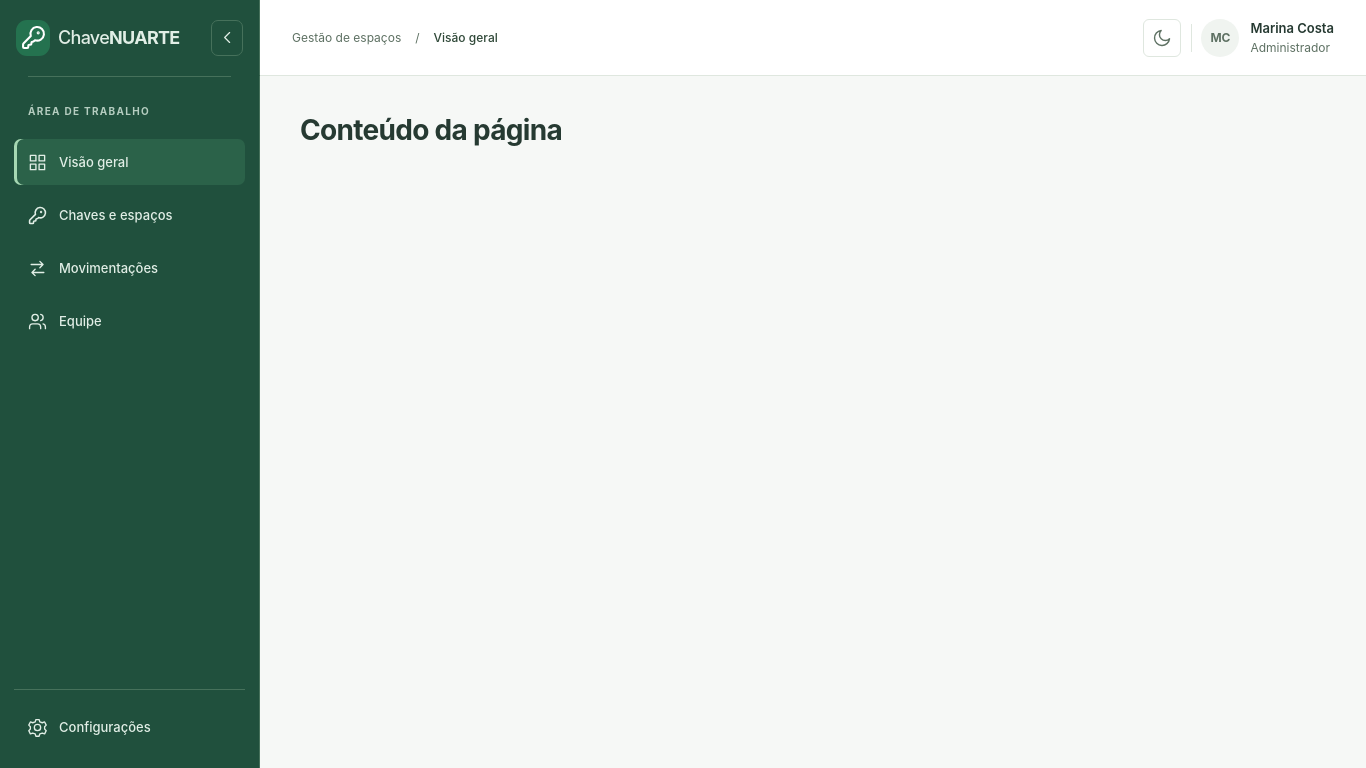
Scenario: identidade e navegação institucional › mantém o controle de expansão junto à marca nos dois estados
This screenshot has width=1366, height=768.
Click the button named "Recolher barra lateral": (227, 38) [211,20,243,56]
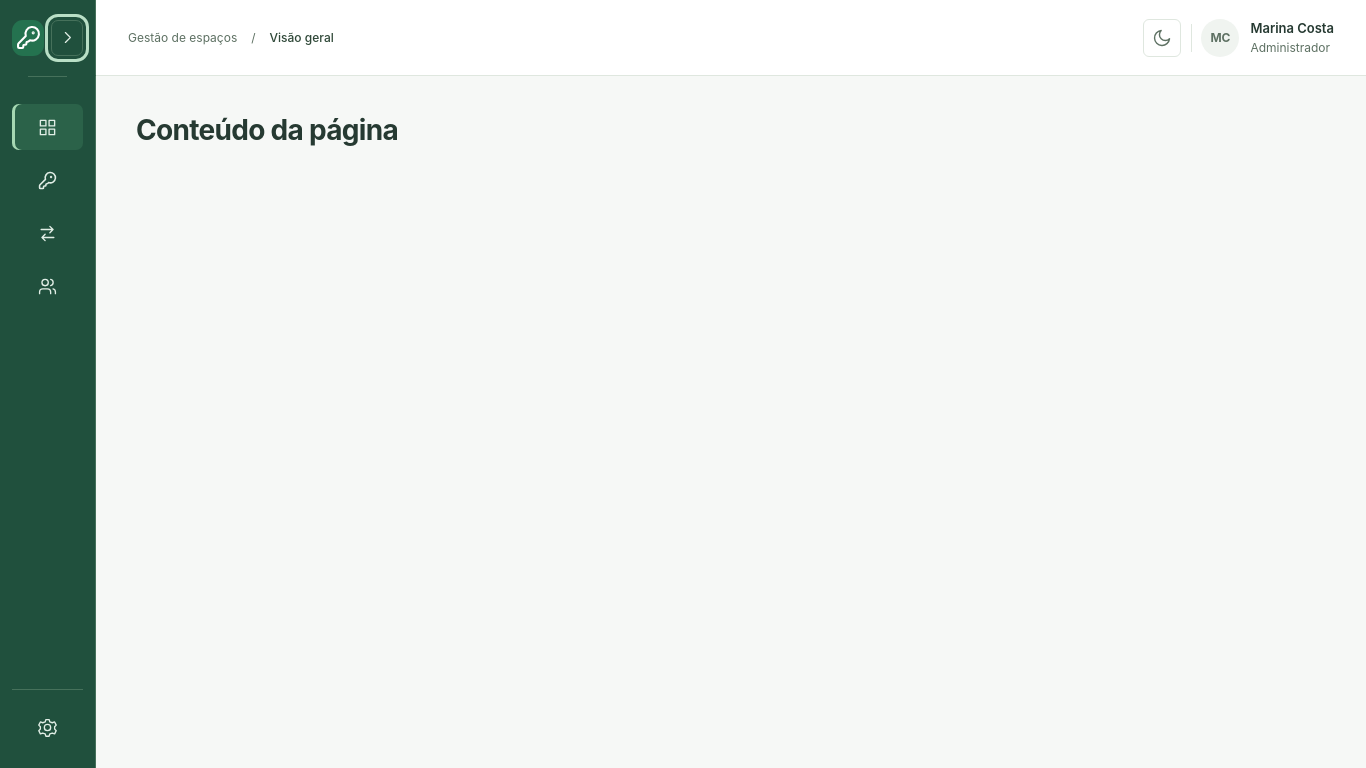
expect the button named "Expandir barra lateral" is collapsed: met
Click the button named "Expandir barra lateral": (67, 38) [51,20,83,56]
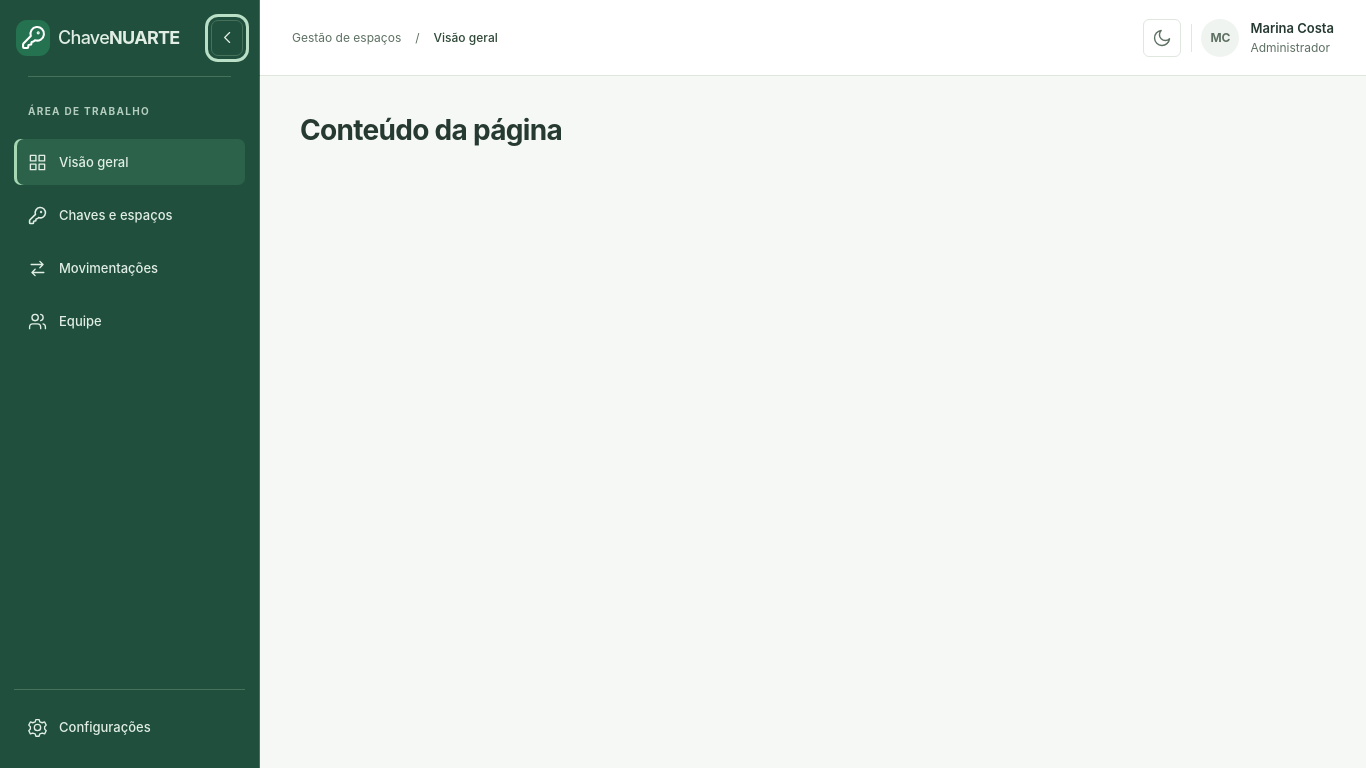
expect the button named "Recolher barra lateral" is expanded: met, box [211,20,243,56]
